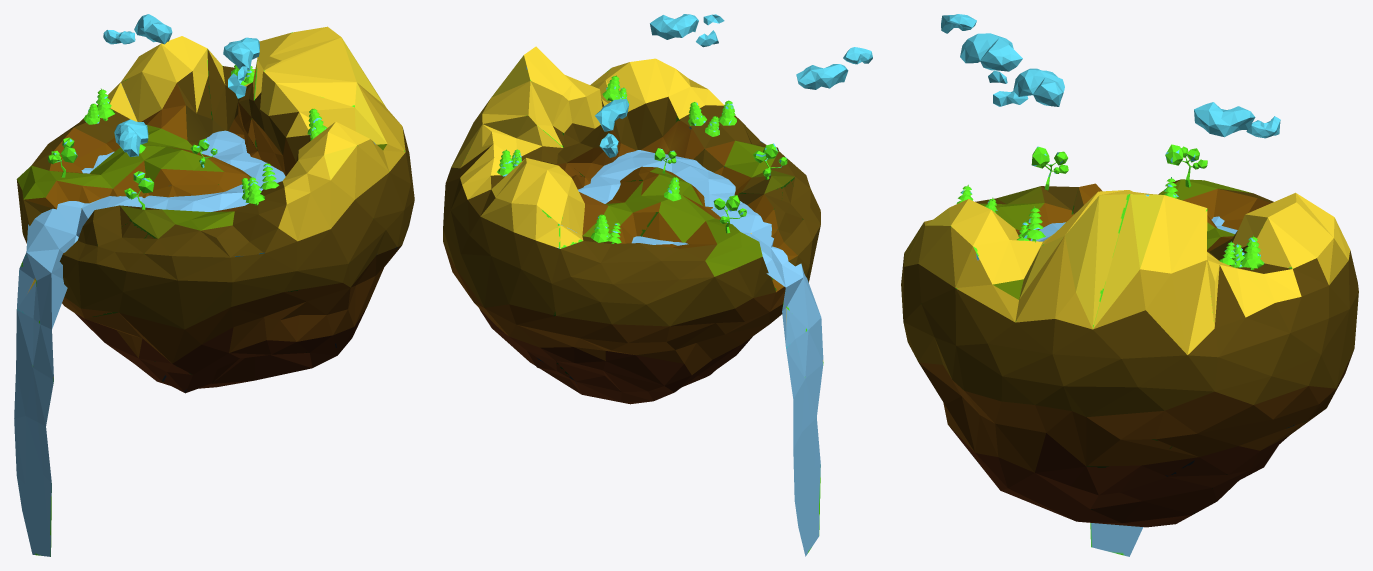
File: Island 2.glb
The picture shows the model from 3 angles, left to right: view 1: azimuth 30°, elevation 25°; view 2: azimuth 150°, elevation 25°; view 3: azimuth 270°, elevation 25°; orthographic projection. The views are drawn at different scales.
Visible parts, largest first — view 1: Island 2; view 2: Island 2; view 3: Island 2.
Part boxes in pixels (left/top/right/bottom): Island 2: left=14, top=14, right=414, bottom=556; Island 2: left=443, top=14, right=872, bottom=556; Island 2: left=901, top=14, right=1358, bottom=556.
Bounding box in the file's own units: 226 × 303 × 216.
Materials: 1 (1 with a texture image).
